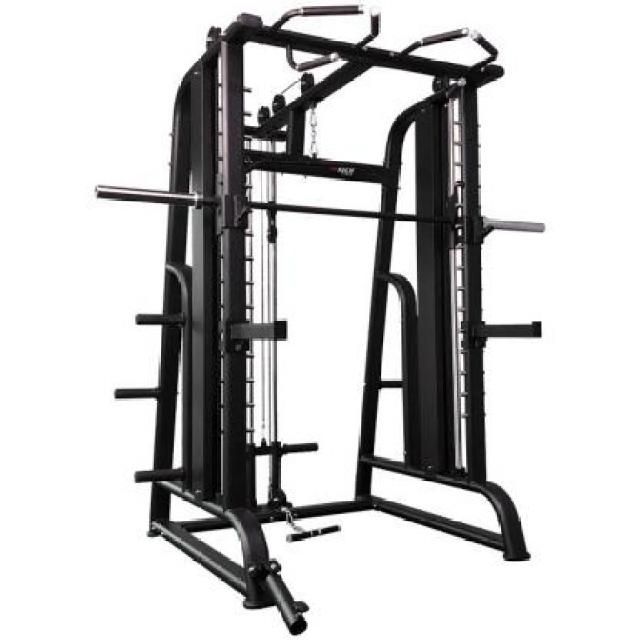smith machine: (94, 3, 546, 632)
